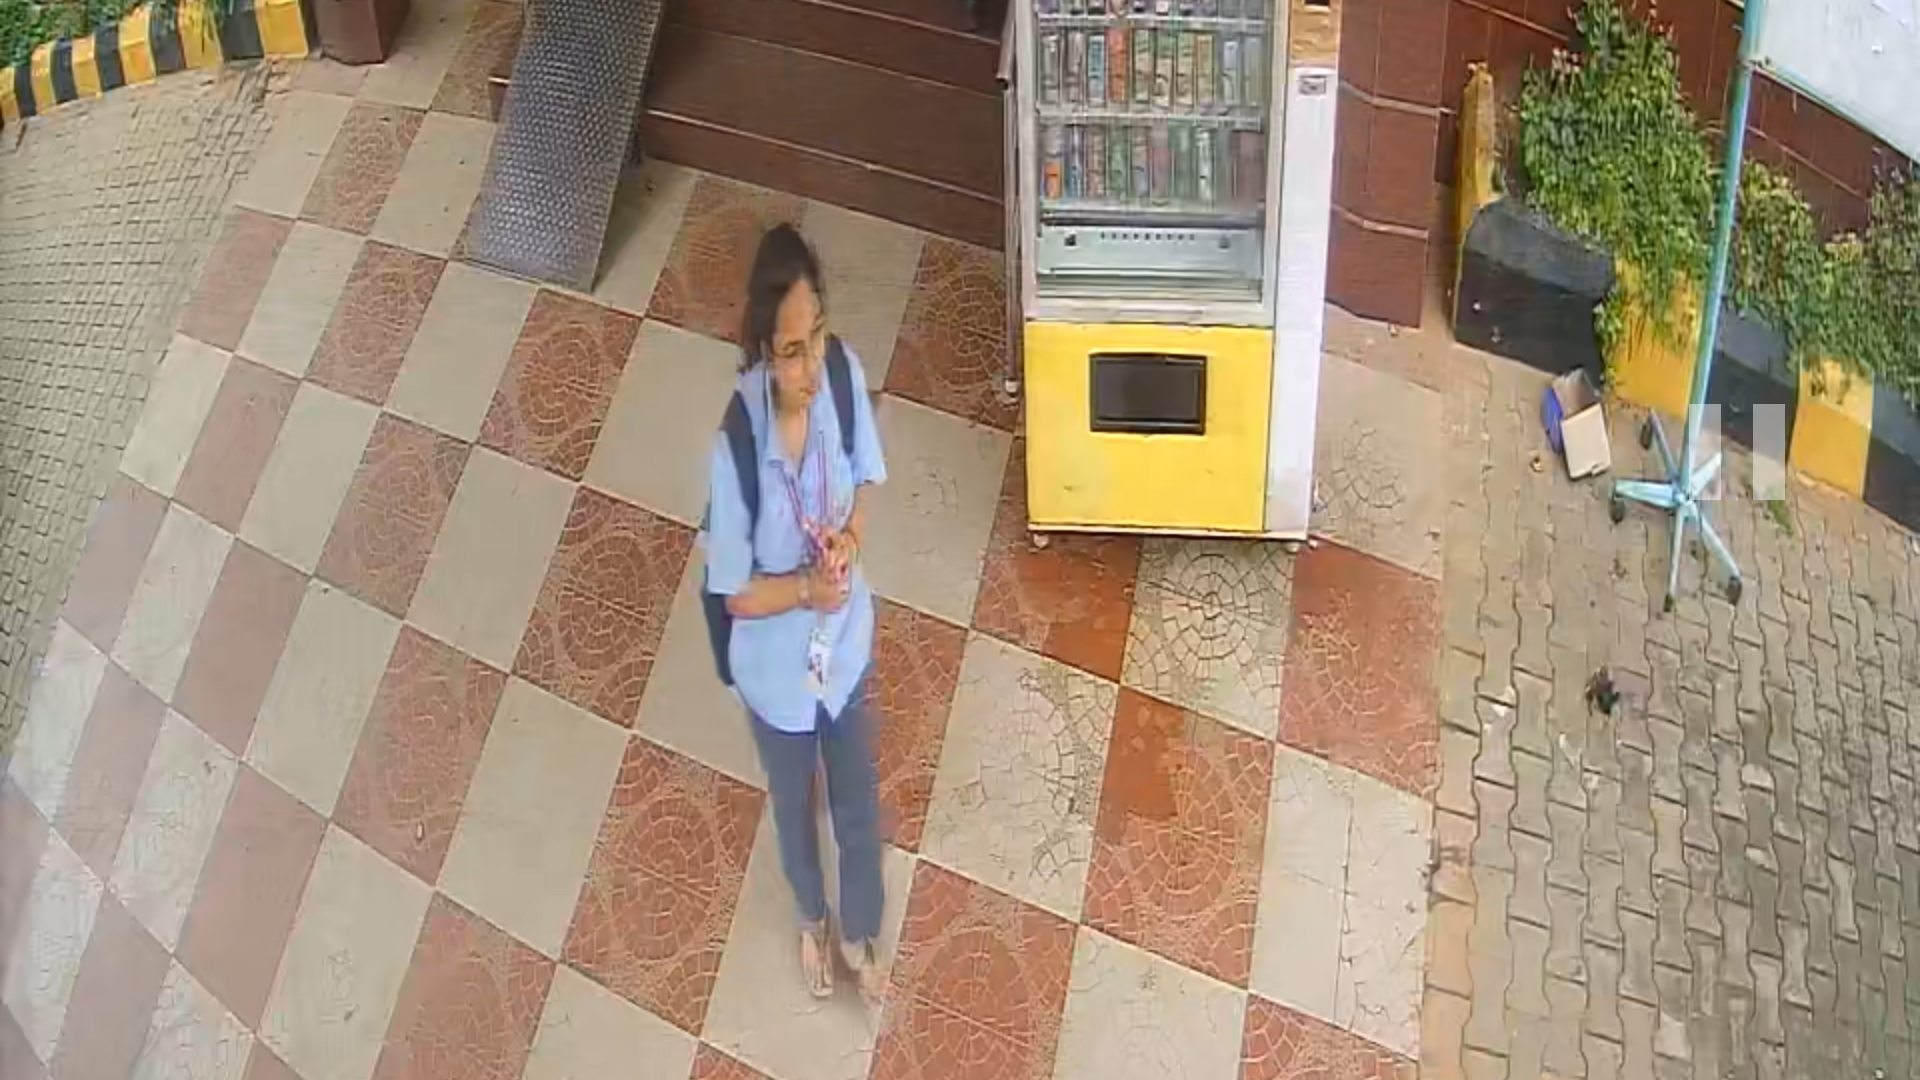not intruder: (680, 212, 919, 1007)
